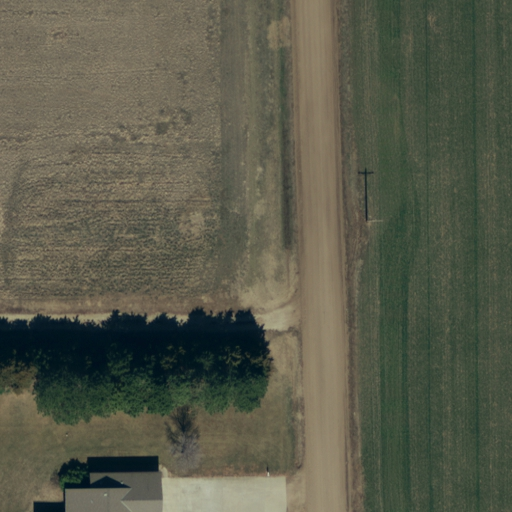DT: (360, 207, 388, 232)
